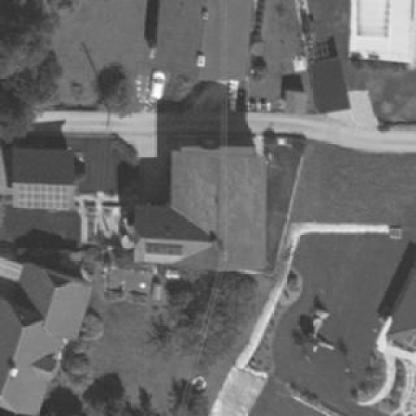solar-pv-panel: (17, 183, 67, 208), (144, 244, 182, 255), (404, 334, 415, 348)
